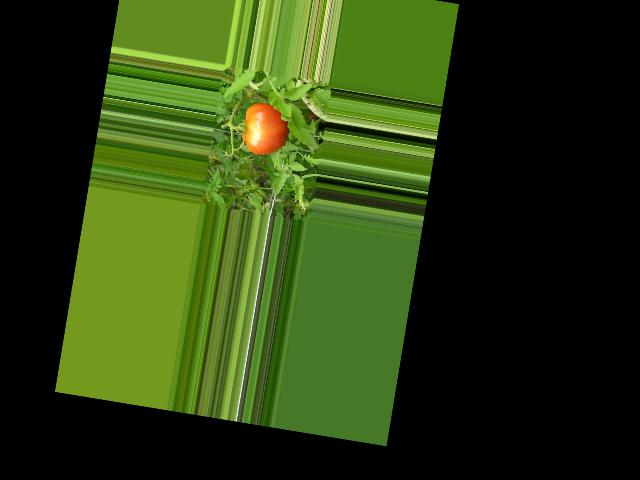tomato: (239, 100, 292, 158)
